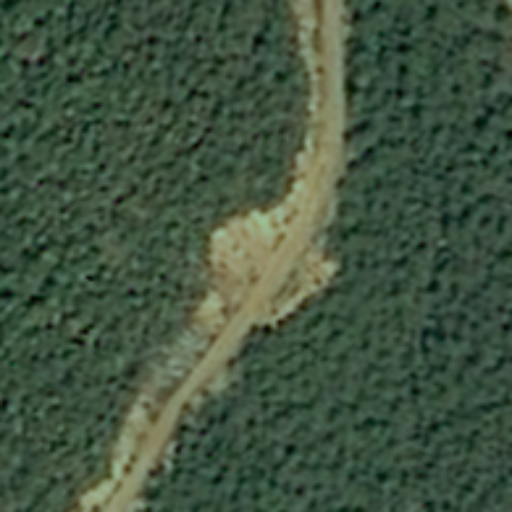landslide: (200, 208, 294, 309)
